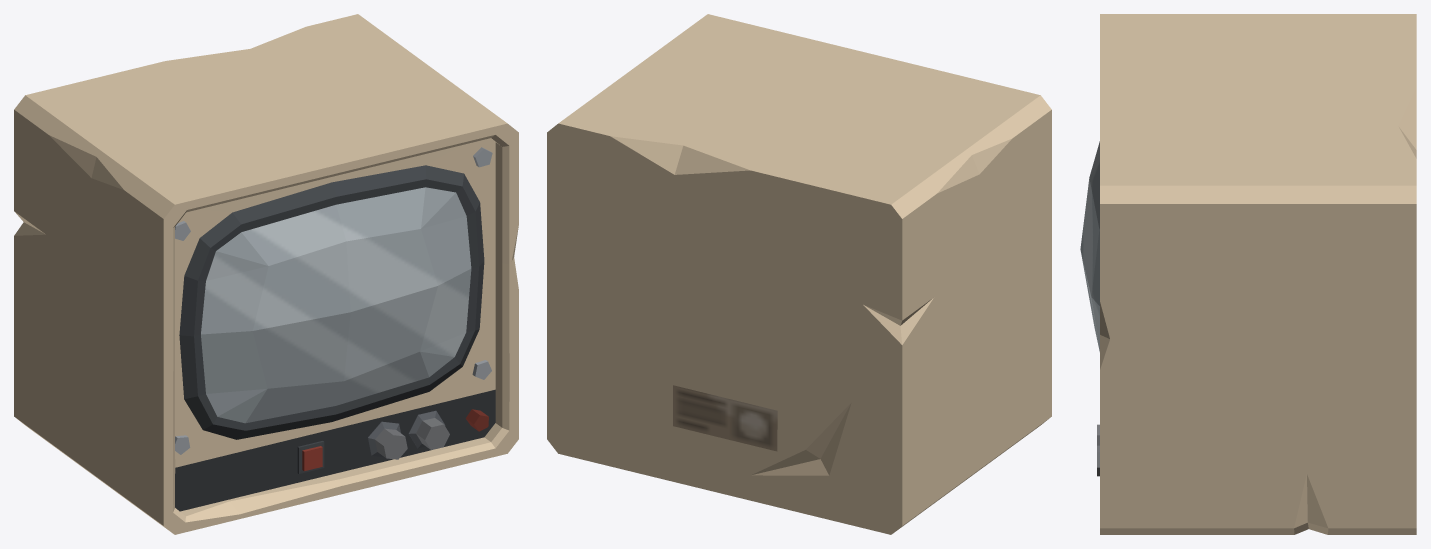
Rendered from SM_Prop_Monitor_03.fbx.
3 renders of one model, left to right at view 1: azimuth 30°, elevation 25°; view 2: azimuth 150°, elevation 25°; view 3: azimuth 270°, elevation 25°, orthographic. The views are drawn at different scales.
Parts seen in each view (by area): view 1: SM_Prop_Monitor_03; view 2: SM_Prop_Monitor_03; view 3: SM_Prop_Monitor_03.
Boxes of the visible parts, x1,y1,x2,y2 form: SM_Prop_Monitor_03: [14, 14, 518, 534]; SM_Prop_Monitor_03: [547, 14, 1051, 534]; SM_Prop_Monitor_03: [1080, 14, 1416, 534].
Bounding box in the file's own units: 46.32 × 41.16 × 35.9.
